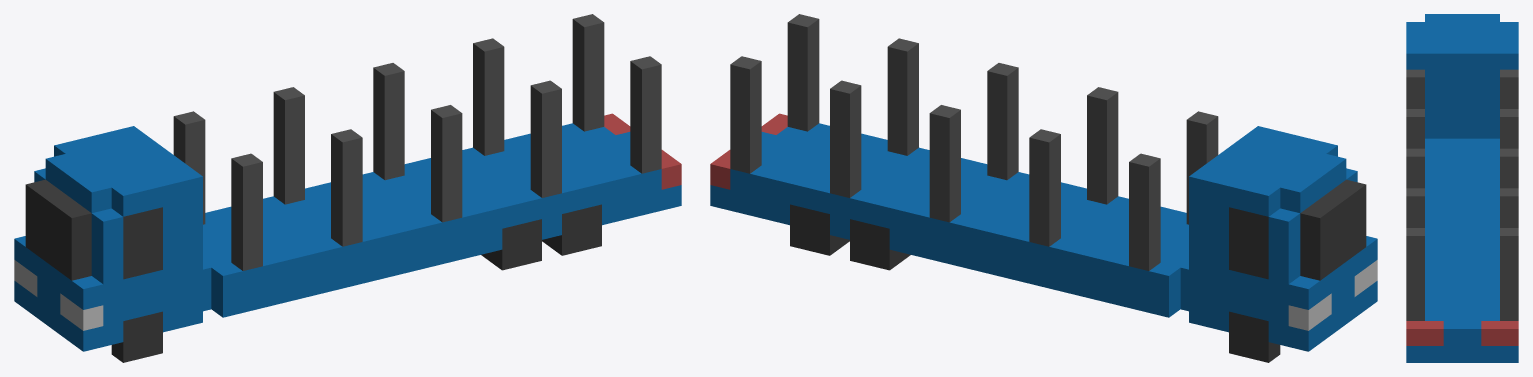
File: truck-v5-blue.gltf
3 views of the same model, side by side, from view 1: azimuth 30°, elevation 25°; view 2: azimuth 150°, elevation 25°; view 3: azimuth 270°, elevation 25° (orthographic). The views are drawn at different scales.
Visible parts, largest first — view 1: model, wheels; view 2: model, wheels; view 3: model.
Boxes of the visible parts, x1,y1,x2,y2 form: model: (14, 14, 681, 351); wheels: (111, 204, 601, 362); model: (710, 14, 1377, 351); wheels: (790, 204, 1280, 362); model: (1406, 14, 1518, 362).
Bounding box in the file's own units: 3 × 0.8 × 0.6.
Materials: 2 (2 with a texture image).
